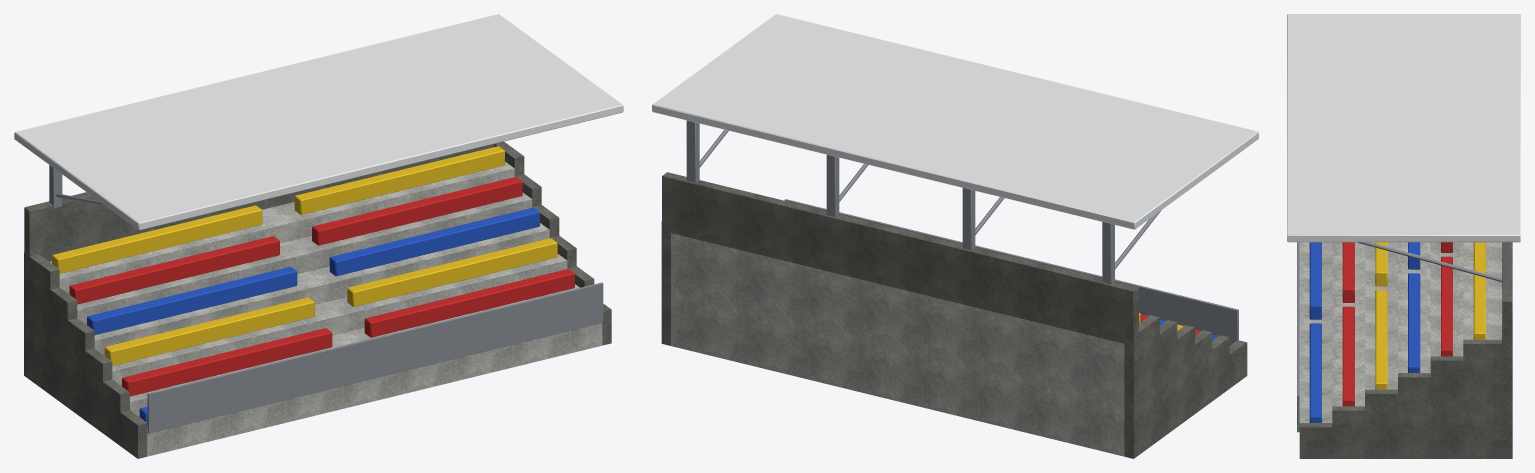
The model's file is race-grandstand.glb.
The picture shows the model from 3 angles, left to right: view 1: azimuth 30°, elevation 25°; view 2: azimuth 150°, elevation 25°; view 3: azimuth 270°, elevation 25°; orthographic projection. The views are drawn at different scales.
Visible parts, largest first — view 1: Race_Grandstand; view 2: Race_Grandstand; view 3: Race_Grandstand.
Part boxes in pixels (x1,y1,x2,y2): Race_Grandstand: (14, 14, 623, 458); Race_Grandstand: (652, 14, 1258, 458); Race_Grandstand: (1287, 14, 1520, 458).
Size of the model in its own units: 12.8 by 6.1 by 5.7.
Materials: 7 (2 with a texture image).
